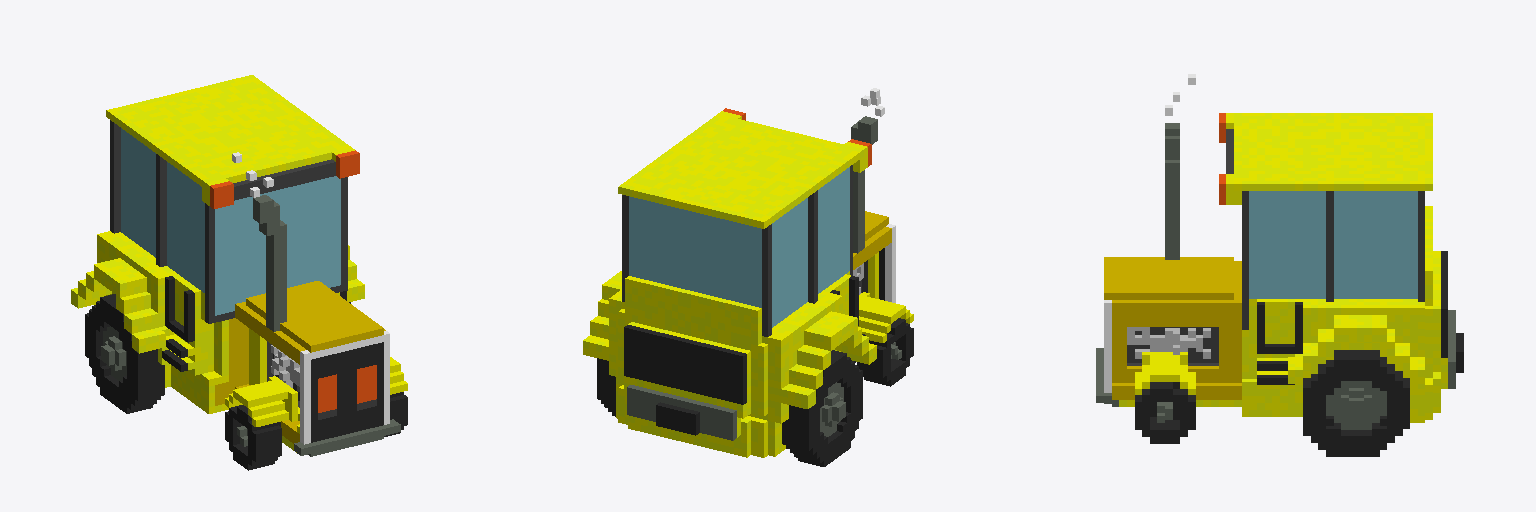
3 renders of one model, left to right at view 1: azimuth 30°, elevation 25°; view 2: azimuth 150°, elevation 25°; view 3: azimuth 270°, elevation 25°, orthographic.
Visible parts, largest first — view 1: object 1; view 2: object 1; view 3: object 1.
Part boxes in pixels (left/top/right/bottom): object 1: left=71, top=75, right=407, bottom=470; object 1: left=583, top=88, right=913, bottom=466; object 1: left=1096, top=74, right=1463, bottom=456.
Size of the model in its own units: 3.4 by 4.3 by 4.8.
Materials: 1 (1 with a texture image).